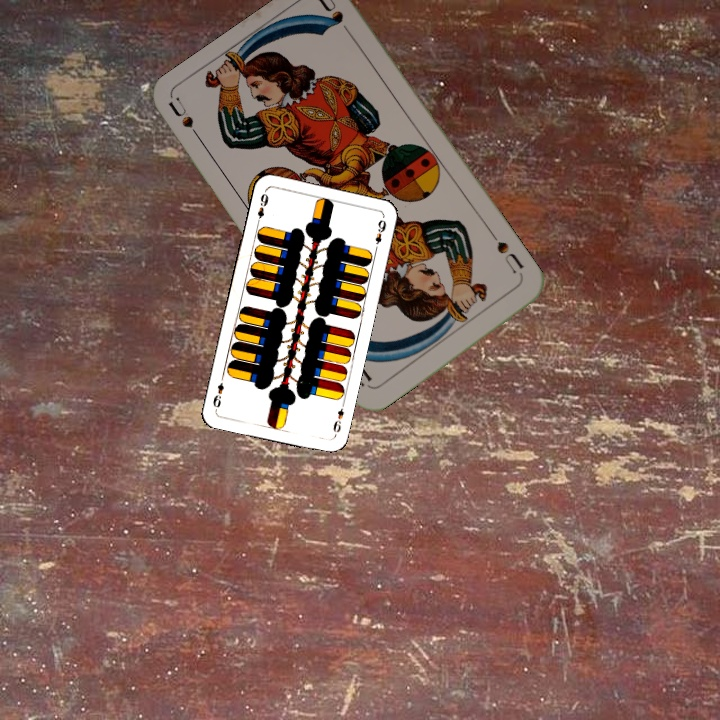E9: (329, 398, 347, 439), (253, 188, 271, 228)
SU: (166, 94, 208, 149), (487, 230, 527, 283)
